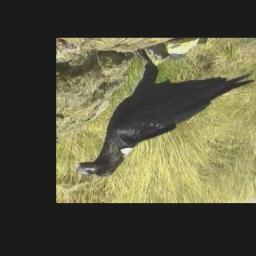Crow: (75, 46, 256, 179)
